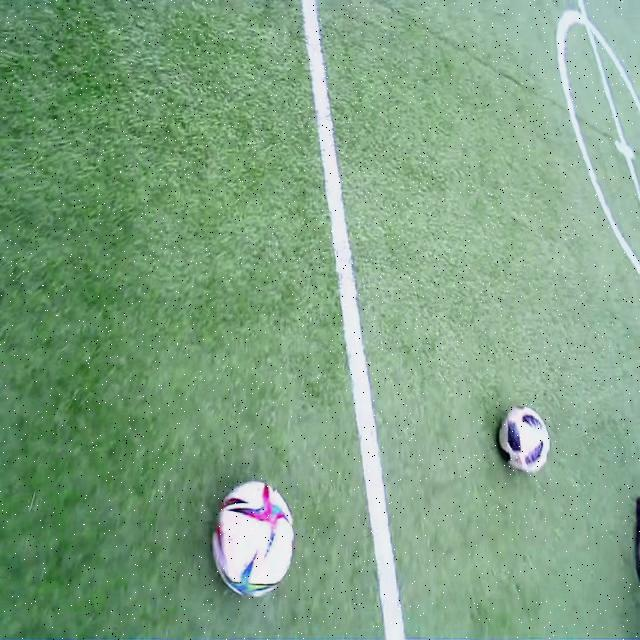ball: (213, 478, 295, 599), (499, 405, 550, 474)
